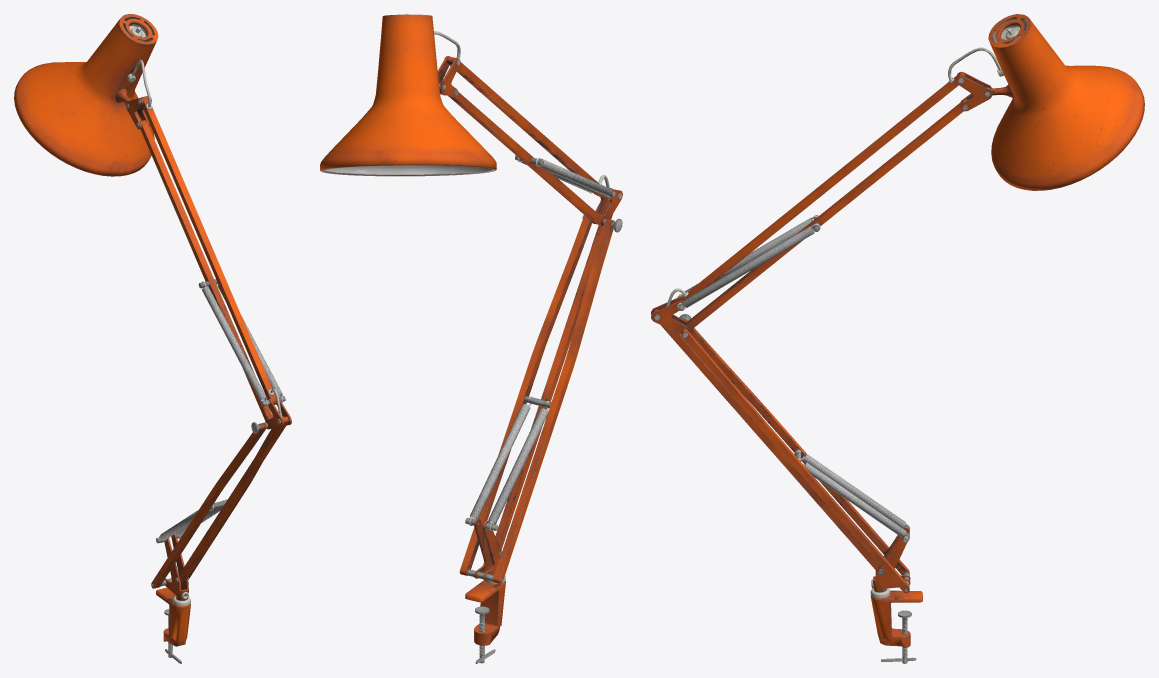
Rendered from desk_lamp_arm_01.glb.
The picture shows the model from 3 angles, left to right: view 1: azimuth 30°, elevation 25°; view 2: azimuth 150°, elevation 25°; view 3: azimuth 270°, elevation 25°; orthographic projection. The views are drawn at different scales.
Visible parts, largest first — view 1: desk_lamp_arm_01; view 2: desk_lamp_arm_01; view 3: desk_lamp_arm_01.
Boxes of the visible parts, x1,y1,x2,y2 form: desk_lamp_arm_01: [14, 14, 291, 663]; desk_lamp_arm_01: [320, 14, 622, 663]; desk_lamp_arm_01: [651, 14, 1144, 663].
Bounding box in the file's own units: 0.2017 × 0.8926 × 0.6139.
Materials: 2 (2 with a texture image).
